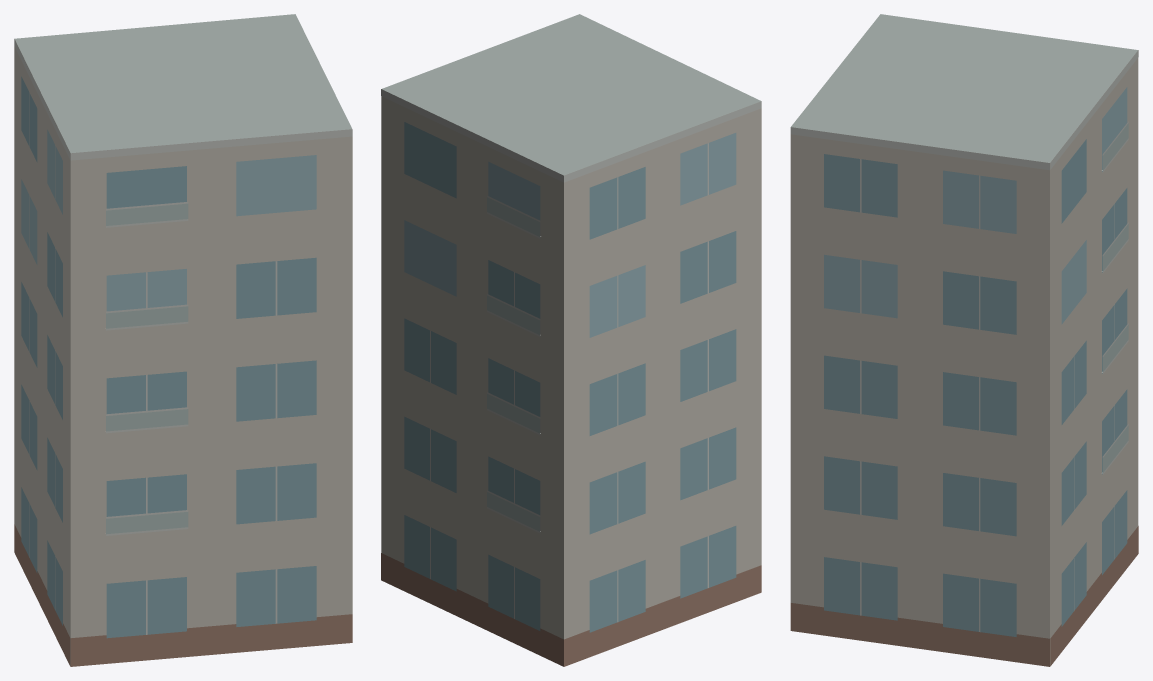
The model's file is survey-upis-32533467.glb.
3 renders of one model, left to right at view 1: azimuth 30°, elevation 25°; view 2: azimuth 150°, elevation 25°; view 3: azimuth 270°, elevation 25°, orthographic. The views are drawn at different scales.
Parts seen in each view (by area): view 1: survey-upis-32533467.tmp; view 2: survey-upis-32533467.tmp; view 3: survey-upis-32533467.tmp.
Boxes of the visible parts, box(x1,y1,x2,y2) form: survey-upis-32533467.tmp: box(14, 14, 352, 666); survey-upis-32533467.tmp: box(381, 14, 761, 666); survey-upis-32533467.tmp: box(790, 14, 1138, 666).
Bounding box in the file's own units: 10.79 × 17 × 10.64.
